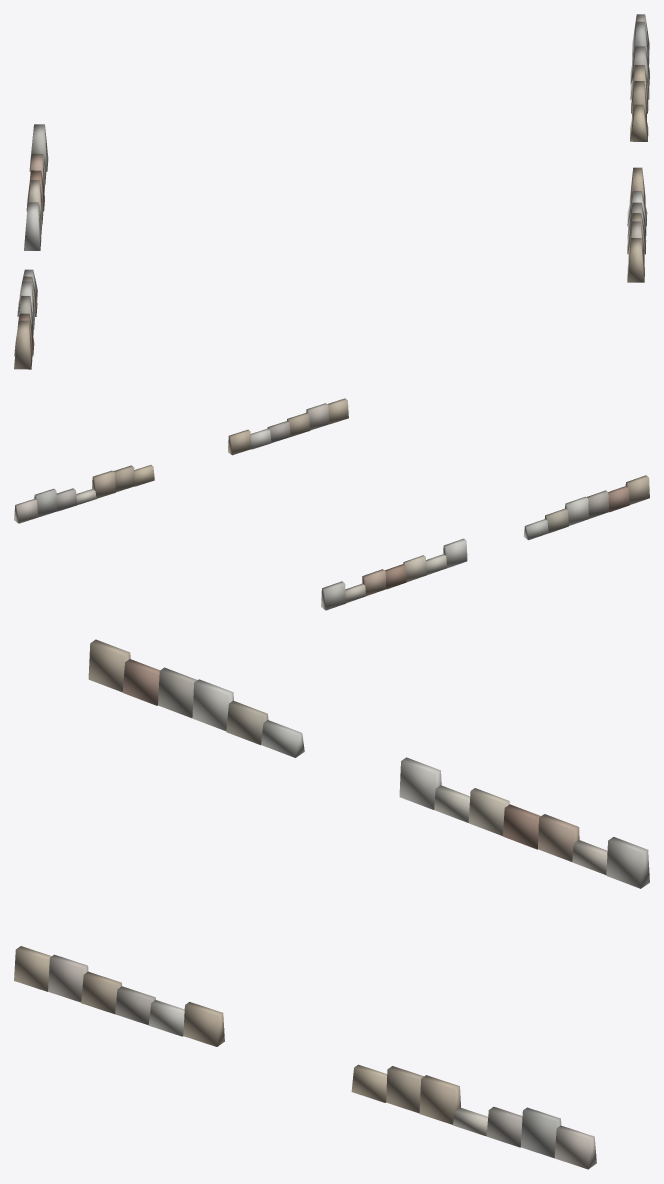
Rendered from farm_2_22_collision.glb.
The picture shows the model from 3 angles, top to bottom: view 1: azimuth 30°, elevation 25°; view 2: azimuth 150°, elevation 25°; view 3: azimuth 270°, elevation 25°; orthographic projection. The views are drawn at different scales.
Visible parts, largest first — view 1: geometry_0; view 2: geometry_0; view 3: geometry_0.
Part boxes in pixels (left/top/right/bottom): geometry_0: left=14, top=14, right=649, bottom=369; geometry_0: left=14, top=398, right=649, bottom=610; geometry_0: left=14, top=639, right=649, bottom=1169.
Size of the model in its own units: 38.9 by 4.55 by 24.62.
